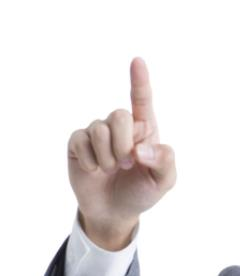up: (63, 53, 179, 224)
